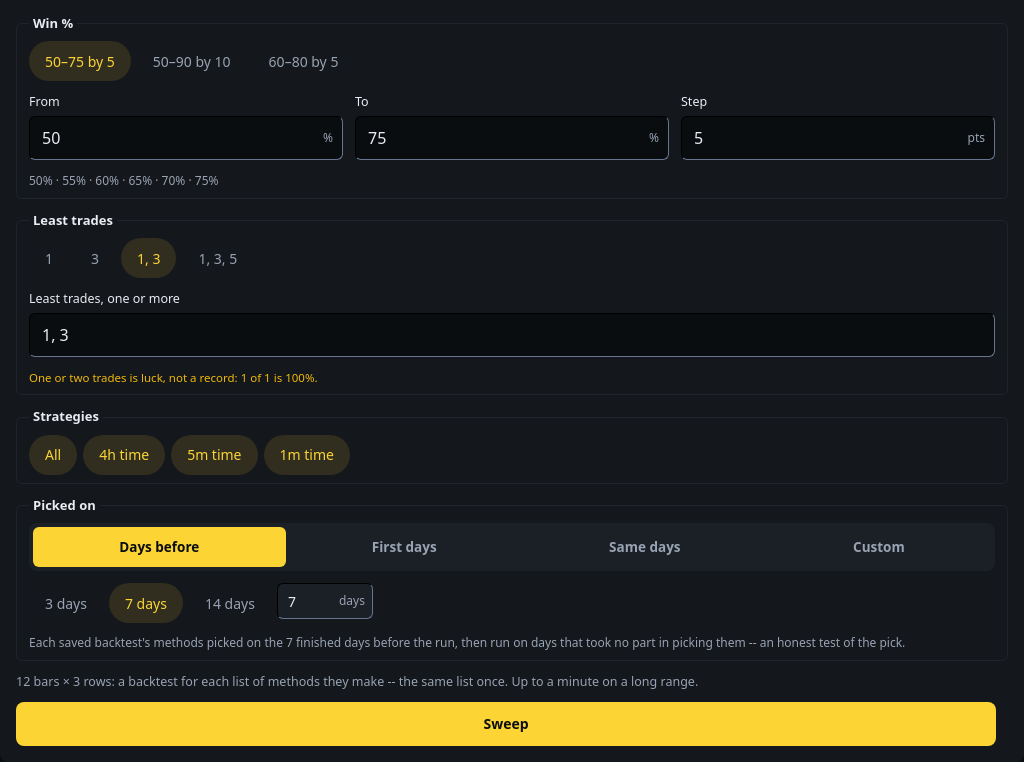
Test case: WinSweep › [critical] every bar side by side: net, trades and won %, the row's best marked, the total, and none passed said as nothing traded
(page scrolled)
Step 1. Click the button "Sweep" → [506, 724], box [16,702,996,746]
(page scrolled)
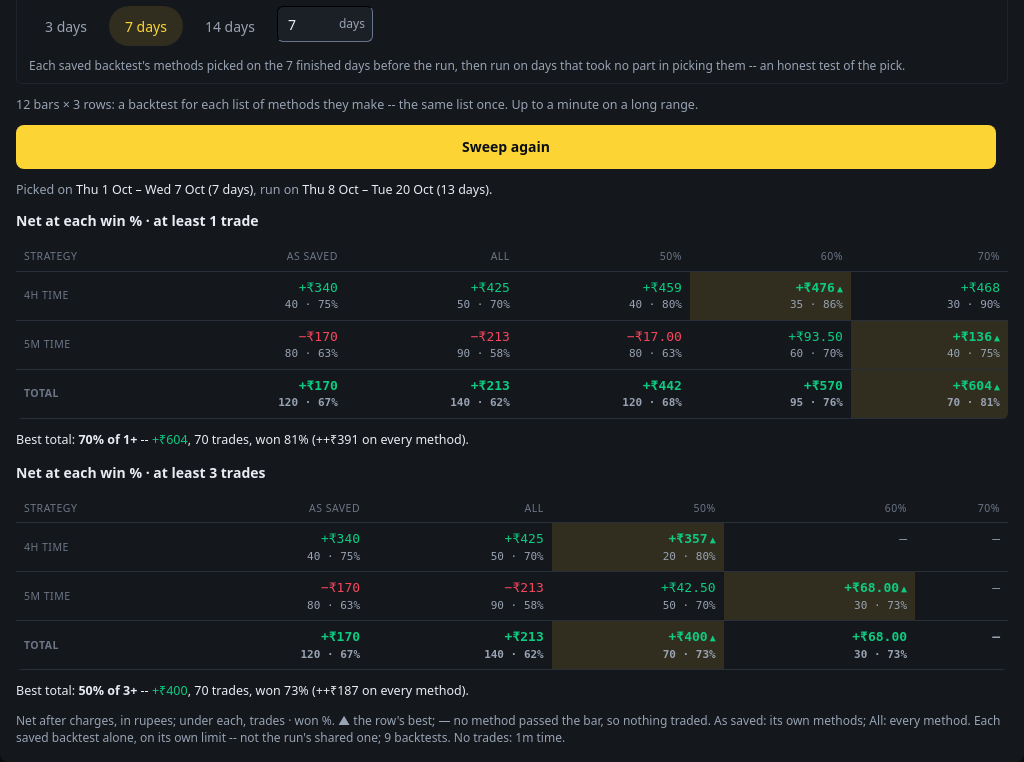
Check: the column headings read "Strategy", "As saved", "All", "50%", "60%", "70%", in this order, box [16,243,174,271]; [174,243,346,271]; [346,243,518,271]; [518,243,690,271]; [690,243,851,271]; [851,243,1008,271]
Check: the cell labelled "+₹476▲ 35 · 86%" is shown, box [690,272,851,320]
Check: the cell labelled "+₹136▲ 40 · 75%" is shown, box [851,320,1008,369]
